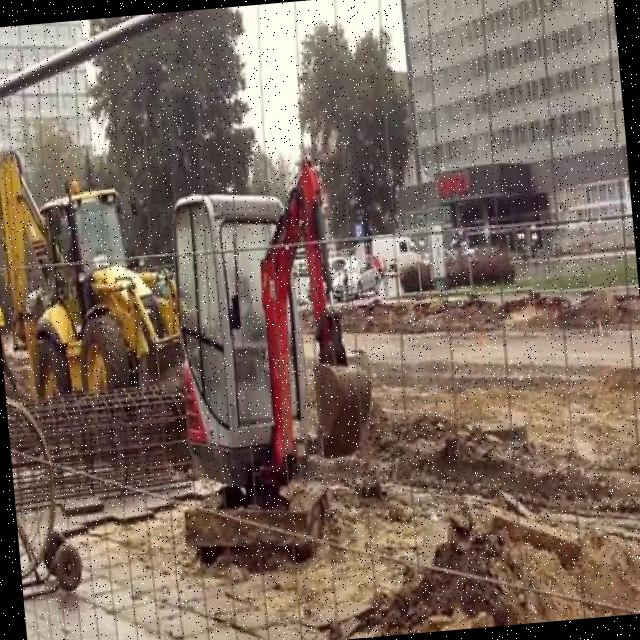Excavator: (148, 148, 386, 574)
